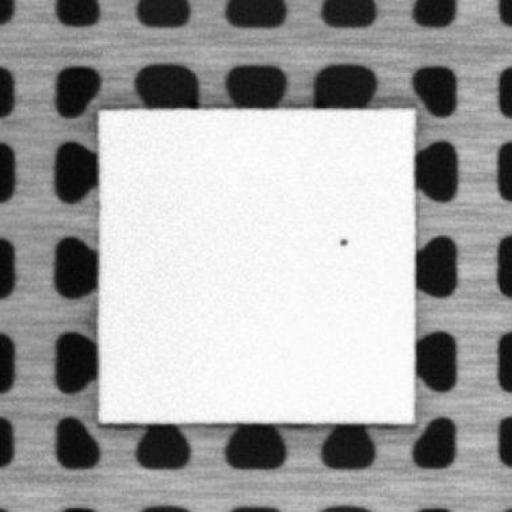DIE_INK: (336, 232, 349, 246)
